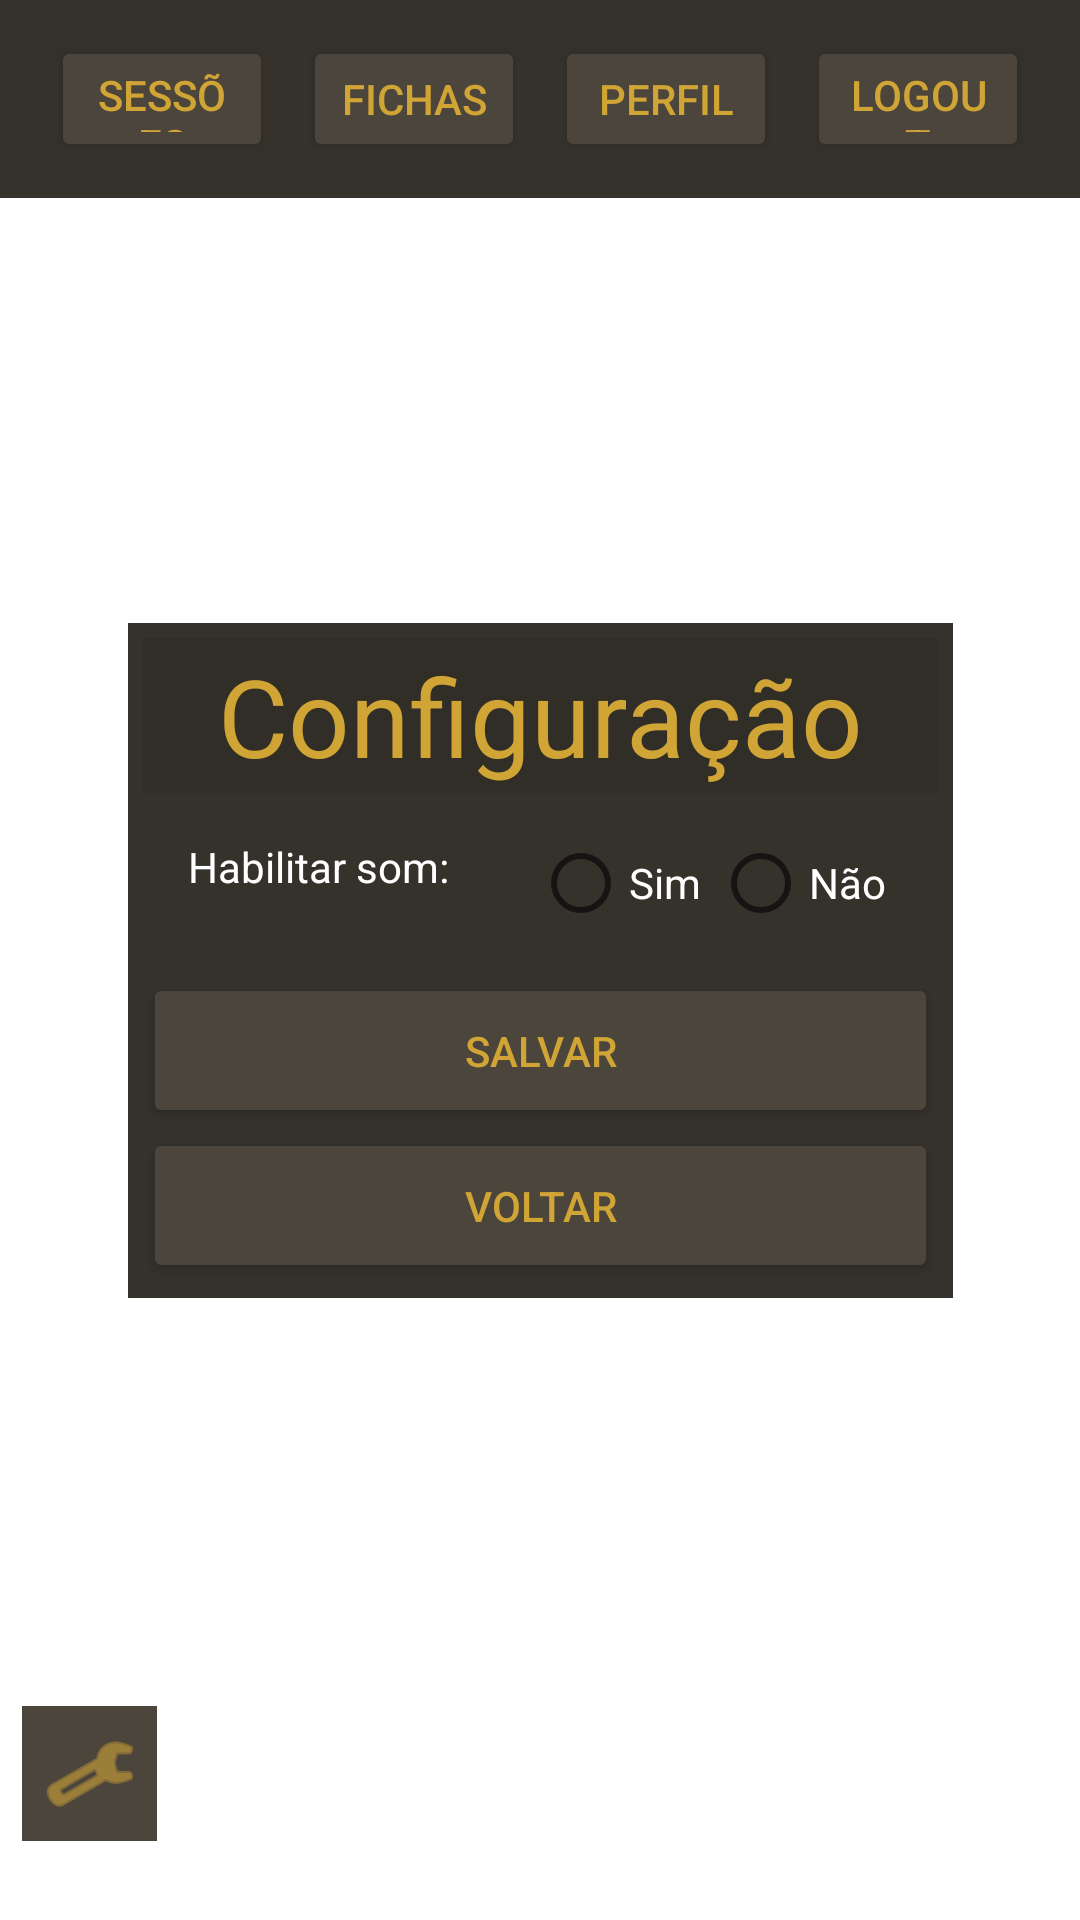

Named icons in this screenshot (1080 × 1920) and their bounding boxes, (x1, y1, x2, y2):
manage: (22, 1706, 157, 1841)
